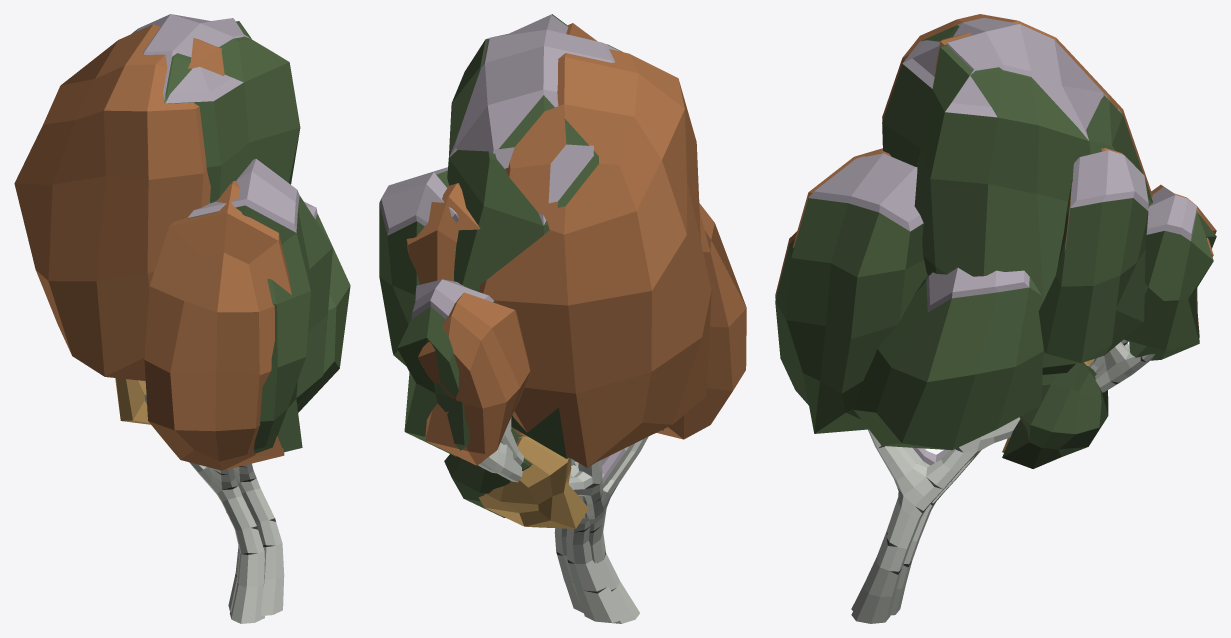
The model's file is BirchTree_1.glb.
3 views of the same model, side by side, from view 1: azimuth 30°, elevation 25°; view 2: azimuth 150°, elevation 25°; view 3: azimuth 270°, elevation 25° (orthographic). The views are drawn at different scales.
Parts seen in each view (by area): view 1: BirchTree_Autumn_1_Cube.097, BirchTree_Snow_1_Cube.135, BirchTree_Summer_1_Cube; view 2: BirchTree_Autumn_1_Cube.097, BirchTree_Snow_1_Cube.135, BirchTree_Summer_1_Cube, BirchTree_Dead_1_Cube.001; view 3: BirchTree_Snow_1_Cube.135, BirchTree_Summer_1_Cube, BirchTree_Autumn_1_Cube.097, BirchTree_Dead_1_Cube.001.
Part boxes in pixels (left/top/right/bottom): BirchTree_Autumn_1_Cube.097: left=14, top=24, right=291, bottom=623; BirchTree_Snow_1_Cube.135: left=131, top=14, right=350, bottom=615; BirchTree_Summer_1_Cube: left=163, top=21, right=289, bottom=103; BirchTree_Autumn_1_Cube.097: left=406, top=23, right=746, bottom=623; BirchTree_Snow_1_Cube.135: left=379, top=14, right=663, bottom=612; BirchTree_Summer_1_Cube: left=449, top=14, right=622, bottom=225; BirchTree_Dead_1_Cube.001: left=501, top=423, right=634, bottom=622; BirchTree_Snow_1_Cube.135: left=775, top=17, right=1216, bottom=623; BirchTree_Summer_1_Cube: left=921, top=25, right=1122, bottom=145; BirchTree_Autumn_1_Cube.097: left=775, top=14, right=1216, bottom=610; BirchTree_Dead_1_Cube.001: left=890, top=339, right=1128, bottom=615.
Size of the model in its own units: 1.83 by 3.61 by 2.48.
